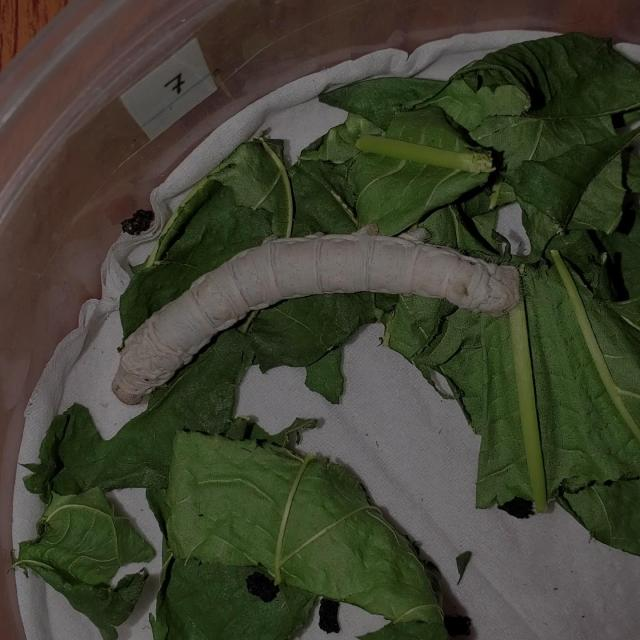Healthy: (89, 200, 545, 427)
